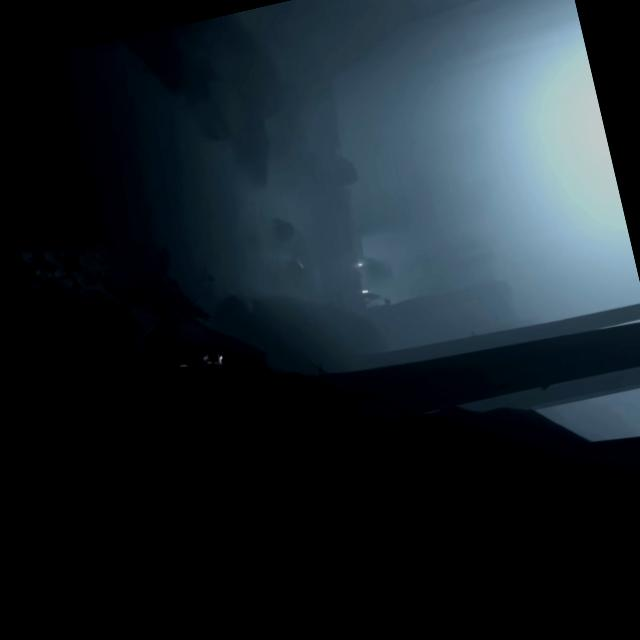boy: (172, 348, 224, 375)
